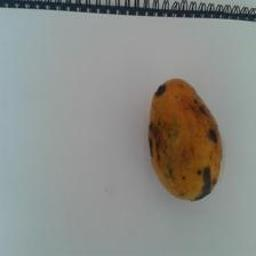Mango Semirotten: (145, 75, 229, 211)
